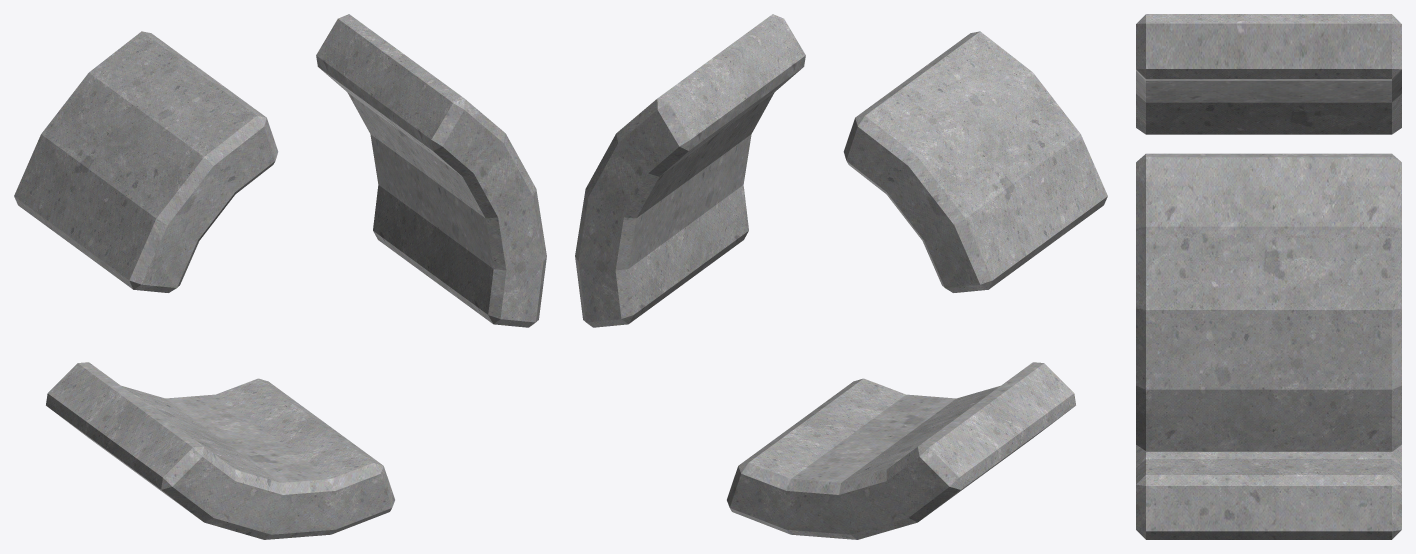
File: OnimasuPlanetRotatePartsB_bake.dae
The picture shows the model from 3 angles, left to right: view 1: azimuth 30°, elevation 25°; view 2: azimuth 150°, elevation 25°; view 3: azimuth 270°, elevation 25°; orthographic projection. The views are drawn at different scales.
Parts seen in each view (by area): view 1: m0; view 2: m0; view 3: m0.
Boxes of the visible parts, <box> form: m0: <box>14,14,546,539</box>; m0: <box>575,14,1107,539</box>; m0: <box>1136,14,1401,539</box>.
Bounding box in the file's own units: 1547 × 1548 × 800.
Materials: 2 (2 with a texture image).
